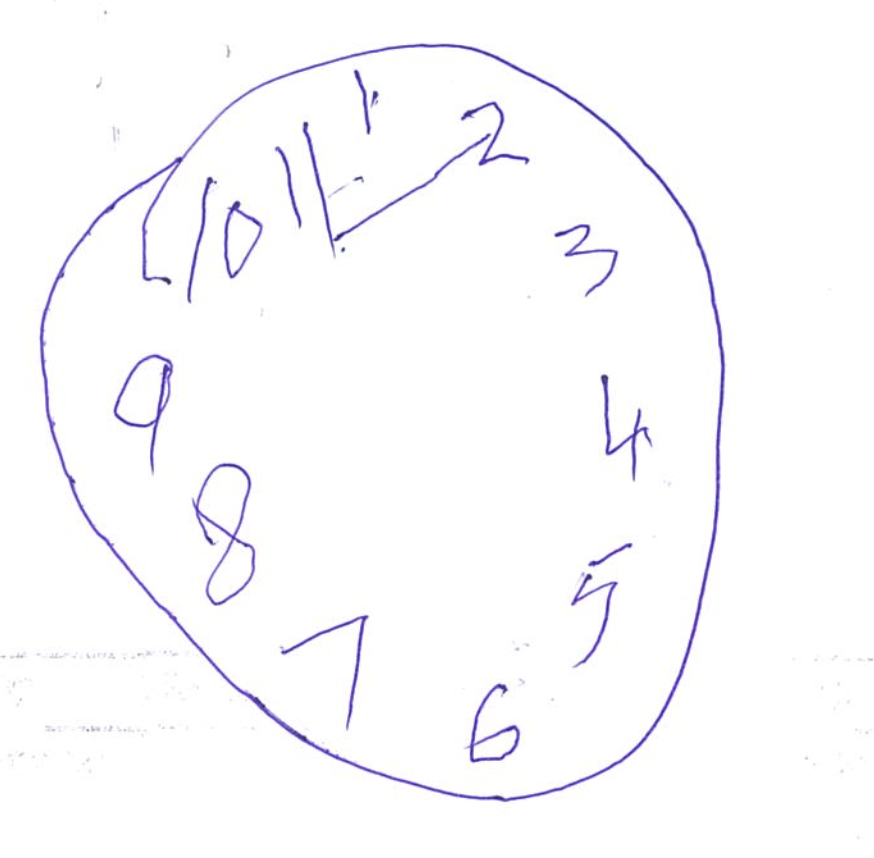1: (346, 62, 382, 141)
10: (181, 176, 267, 302)
11: (271, 122, 337, 256)
2: (457, 102, 533, 168)
3: (550, 222, 623, 299)
4: (595, 372, 655, 478)
5: (560, 540, 634, 671)
6: (466, 681, 524, 771)
7: (279, 611, 376, 735)
8: (192, 454, 258, 611)
9: (109, 350, 177, 478)
contour: (31, 39, 732, 804)
